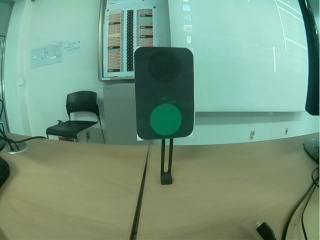green_light: (135, 47, 198, 142)
